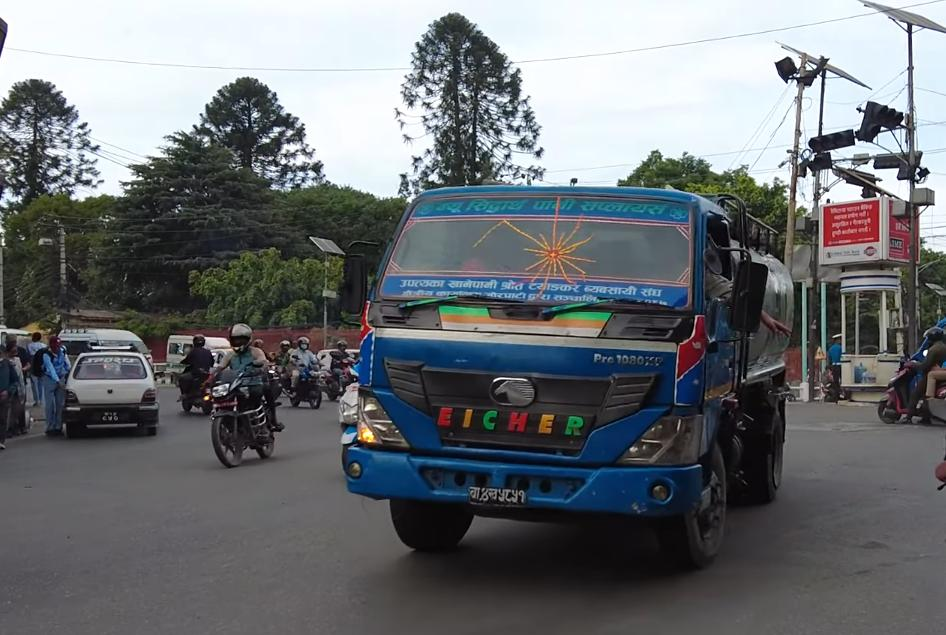bike: (192, 330, 291, 468), (283, 333, 326, 411), (176, 339, 217, 413)
mini_truck: (355, 170, 798, 570)
scooter: (877, 326, 946, 428)
taxi: (55, 345, 168, 438)
